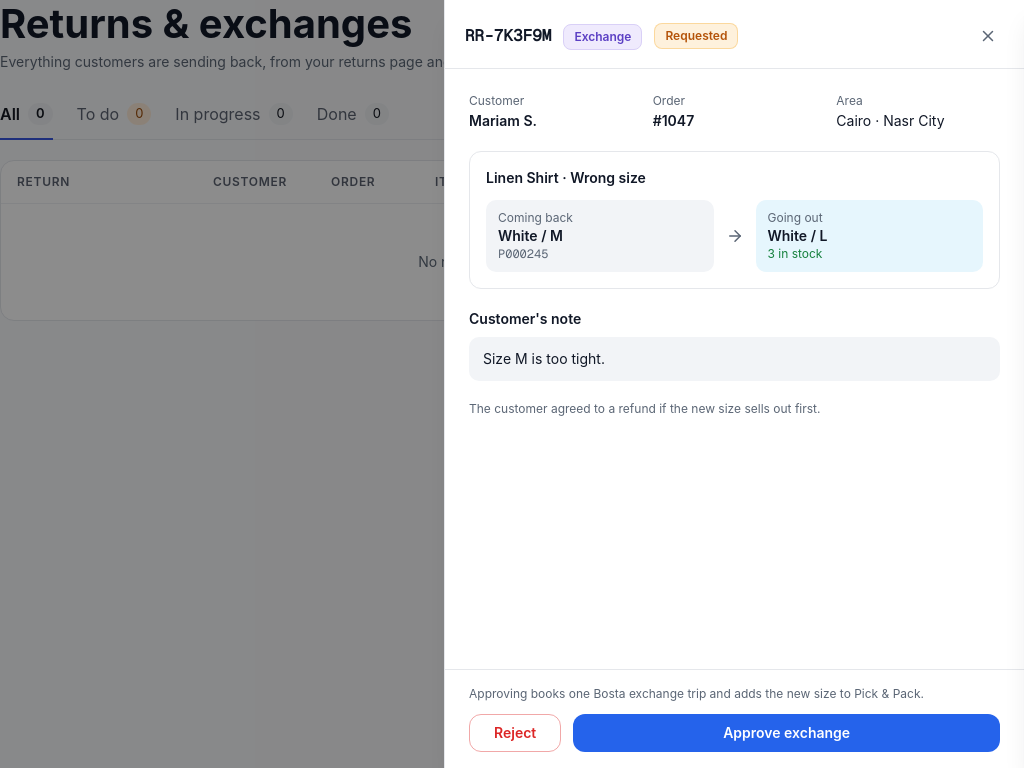
Test case: Drawer X4 — in stock › Approve exchange posts approve and the drawer leaves the requested state
Expected: the element with test id "exchange-swap" is shown, top-left (469, 151), bottom-right (1000, 289)
Click the button "Approve exchange". click: click(787, 733)
box: top-left (573, 714), bottom-right (1000, 752)
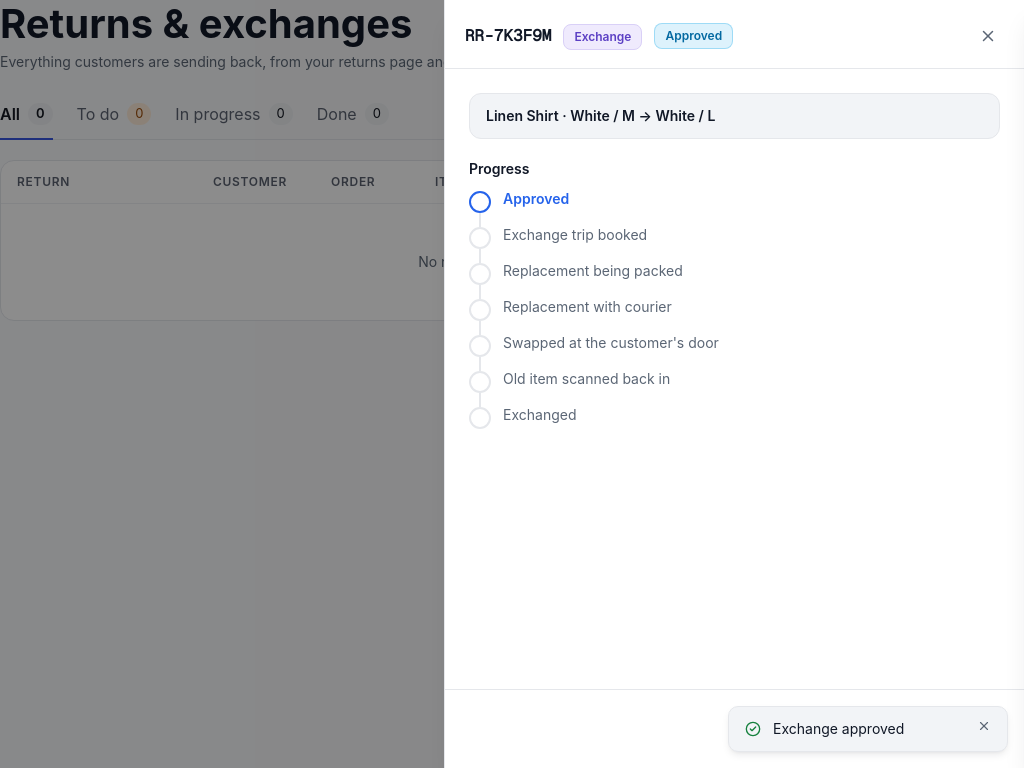
Result: the button "Approve exchange" is gone
